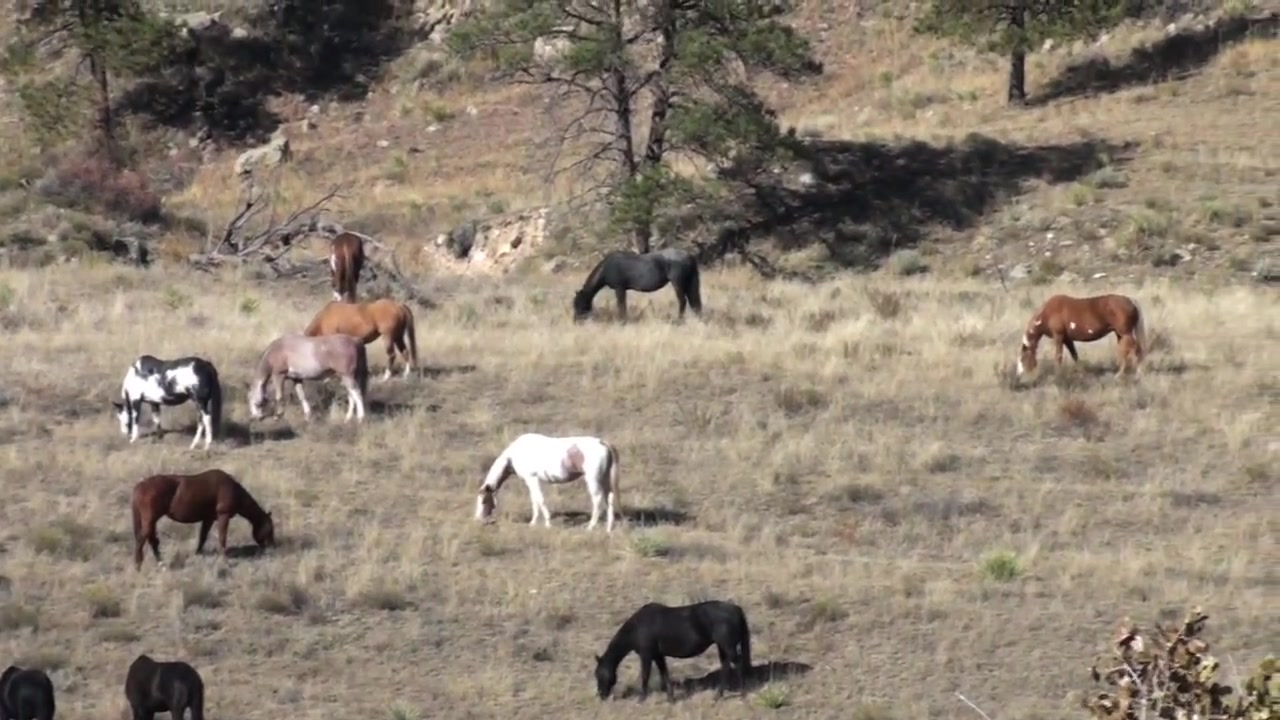horse: (246, 334, 373, 423)
